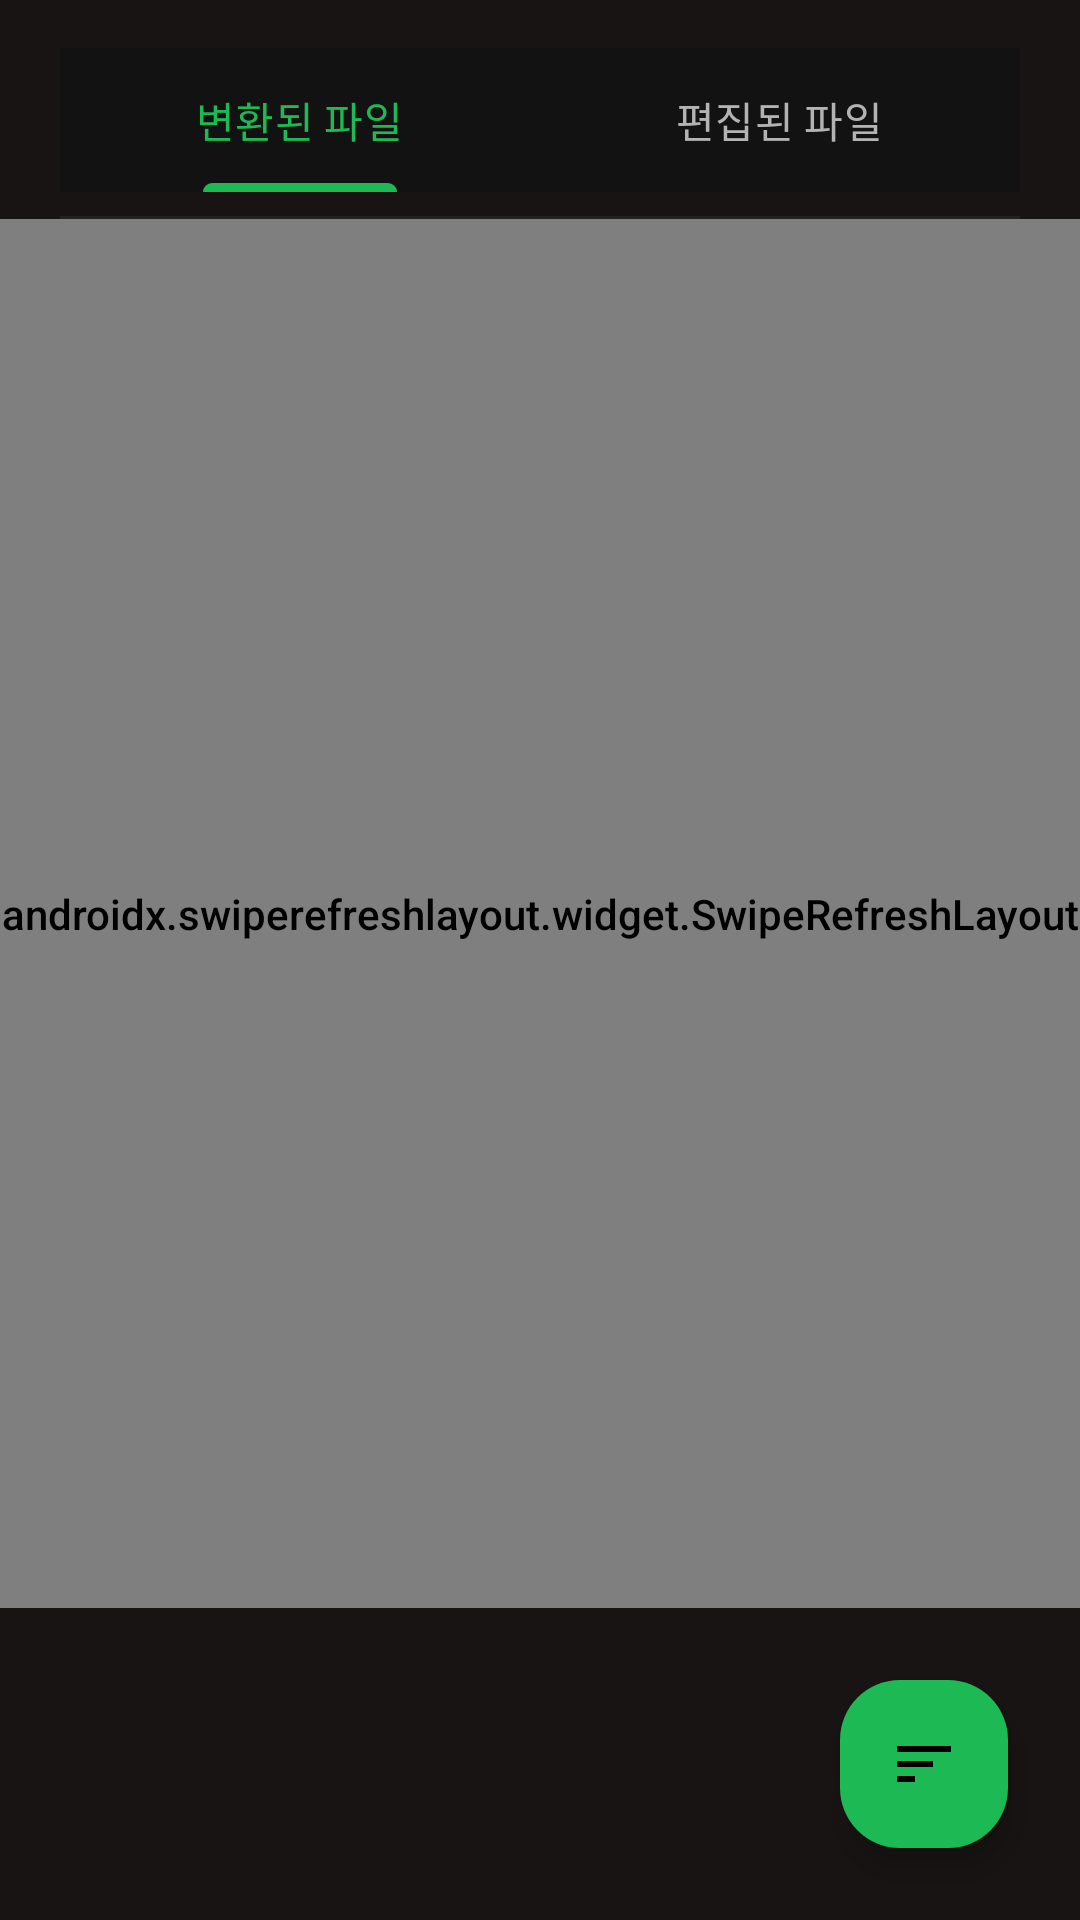

Screen size 1080 x 1920. Icon name, then its box in pixels as (x1, y1, x2, y2):
정렬 및 필터: (840, 1680, 1008, 1848)
